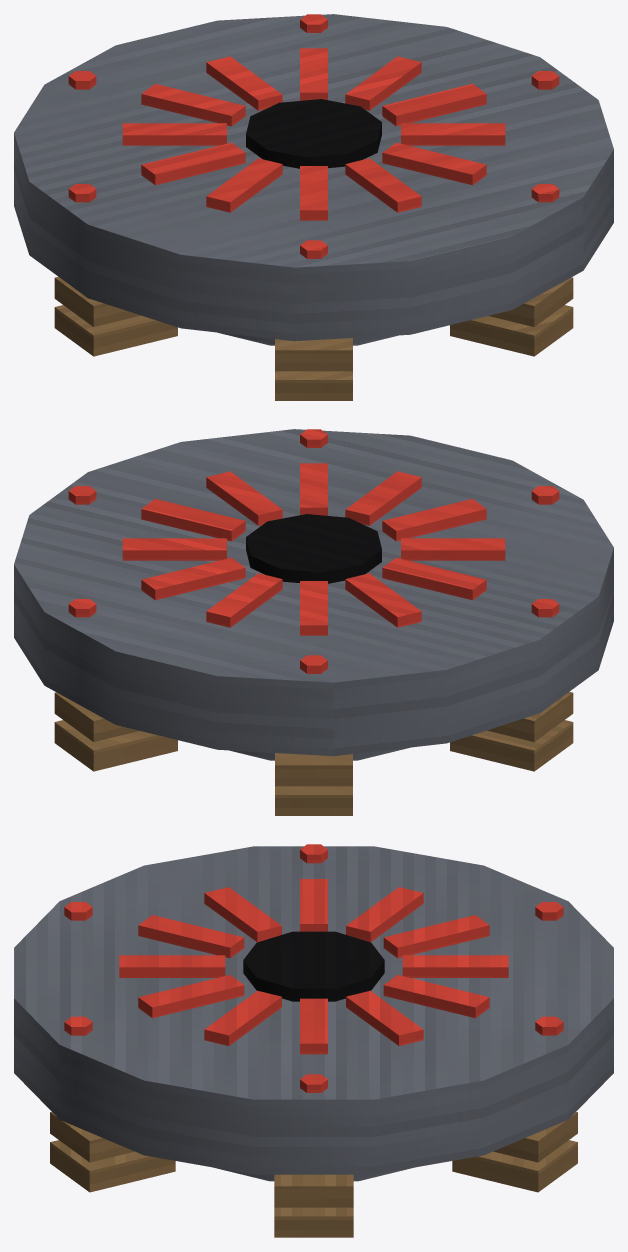
File: embreagem_n4.glb
The picture shows the model from 3 angles, top to bottom: view 1: azimuth 30°, elevation 25°; view 2: azimuth 150°, elevation 25°; view 3: azimuth 270°, elevation 25°; orthographic projection.
Parts seen in each view (by area): view 1: embreagem_n4; view 2: embreagem_n4; view 3: embreagem_n4.
Boxes of the visible parts, bbox=[...] form: embreagem_n4: bbox=[14, 14, 613, 400]; embreagem_n4: bbox=[14, 429, 613, 815]; embreagem_n4: bbox=[14, 844, 613, 1237].
Size of the model in its own units: 0.2542 by 0.089 by 0.2542.
2 materials, 2 textured.
